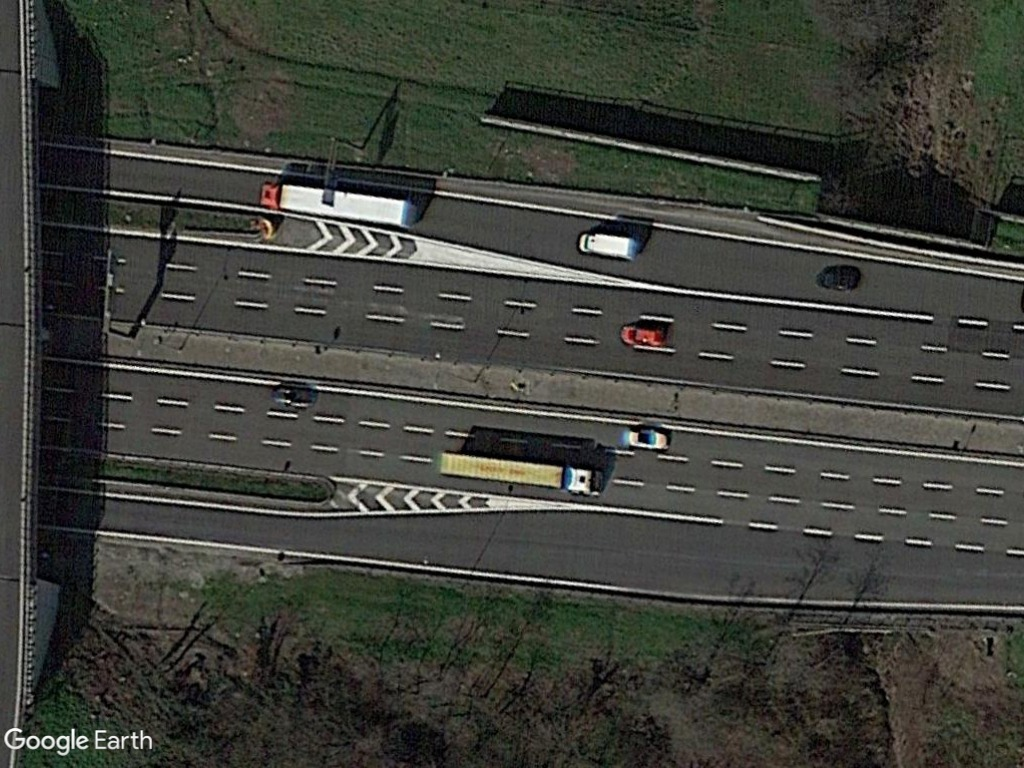car: (617, 320, 670, 349), (622, 426, 673, 452)
longvehicle: (433, 448, 609, 498), (256, 180, 421, 230)
truck: (575, 227, 640, 260)
